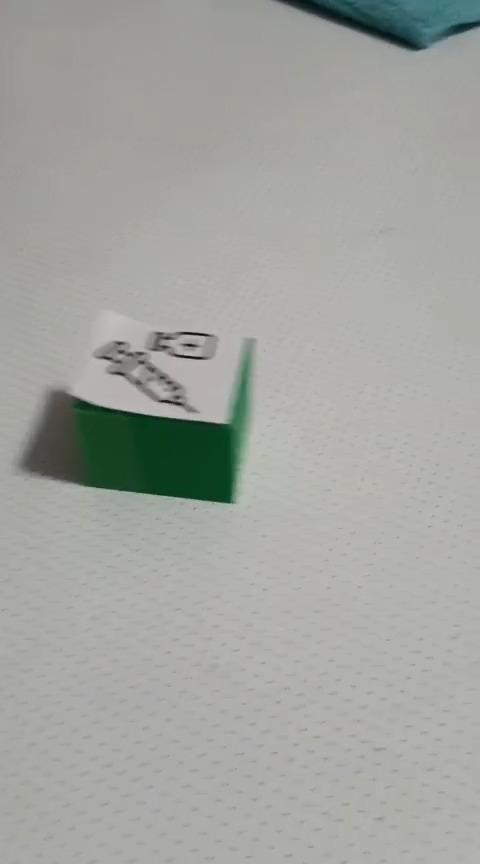antiseptic cream: (66, 307, 258, 504)
